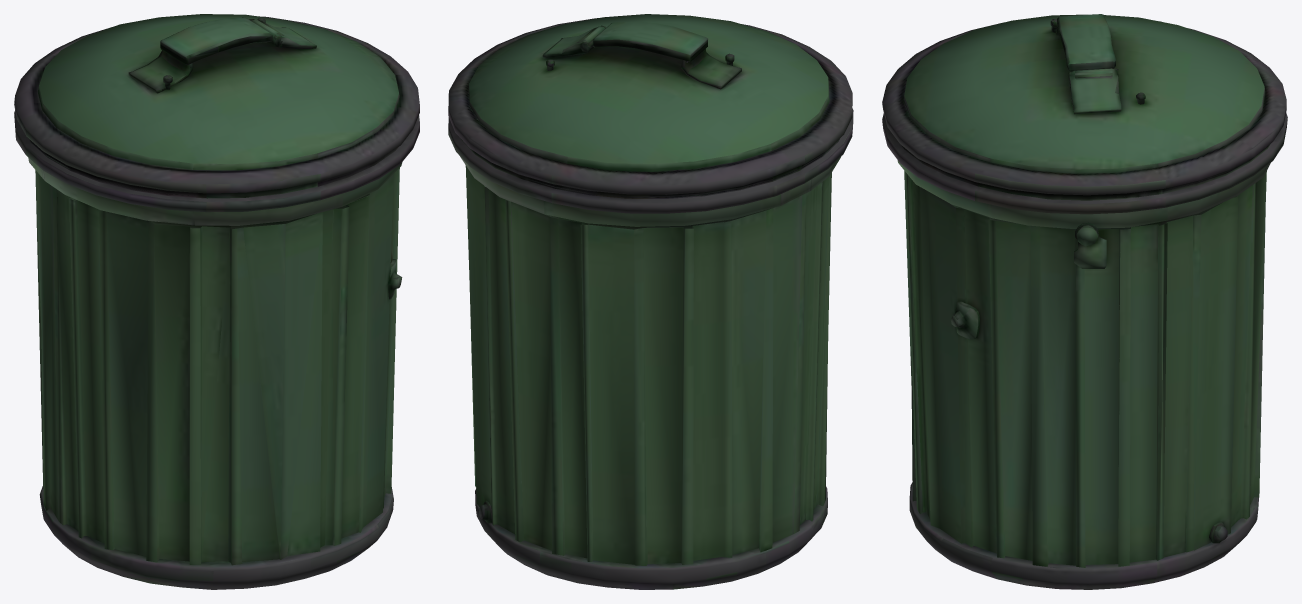
Rendered from street-can.glb.
The picture shows the model from 3 angles, left to right: view 1: azimuth 30°, elevation 25°; view 2: azimuth 150°, elevation 25°; view 3: azimuth 270°, elevation 25°; orthographic projection.
Parts seen in each view (by area): view 1: tripo_node_03b6c3bd-bdb7-4858-80a4-af0ba1850f87; view 2: tripo_node_03b6c3bd-bdb7-4858-80a4-af0ba1850f87; view 3: tripo_node_03b6c3bd-bdb7-4858-80a4-af0ba1850f87.
Part boxes in pixels (x1,y1,x2,y2): tripo_node_03b6c3bd-bdb7-4858-80a4-af0ba1850f87: (14, 14, 419, 589); tripo_node_03b6c3bd-bdb7-4858-80a4-af0ba1850f87: (448, 14, 853, 589); tripo_node_03b6c3bd-bdb7-4858-80a4-af0ba1850f87: (882, 14, 1287, 589).
Size of the model in its own units: 0.6404 by 0.85 by 0.6404.
1 material, 1 textured.
